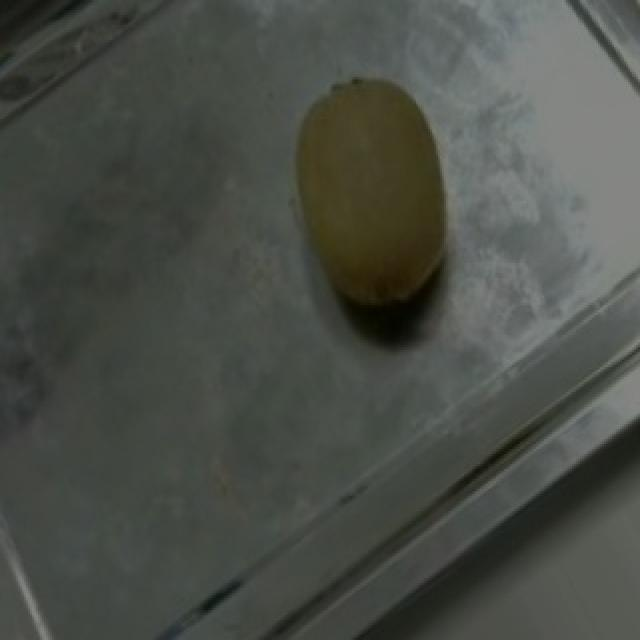Fruit: (250, 47, 492, 352)
